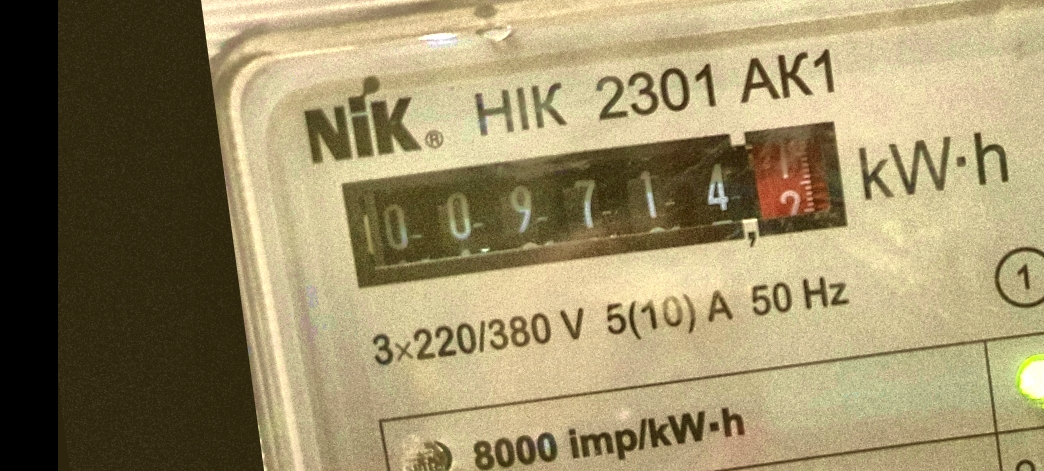0: (378, 197, 414, 254), (442, 186, 475, 242)
1: (634, 163, 664, 221), (773, 137, 793, 181)
2: (777, 184, 804, 217)
4: (699, 158, 734, 215)
7: (571, 174, 604, 231)
9: (504, 180, 539, 235)
screen: (325, 99, 867, 311)
